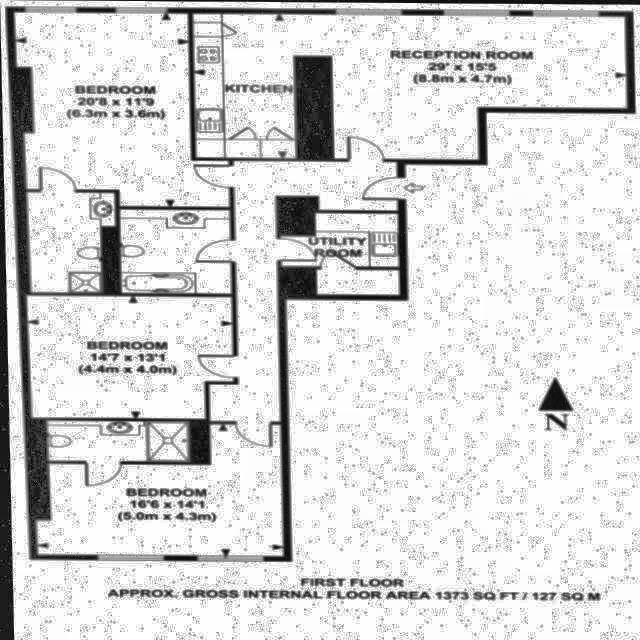room: (207, 159, 397, 424), (292, 14, 627, 159), (14, 12, 231, 207), (33, 423, 282, 556), (25, 296, 233, 419), (192, 10, 295, 160), (279, 212, 399, 295), (120, 209, 231, 294), (26, 192, 114, 292), (45, 420, 188, 462)
